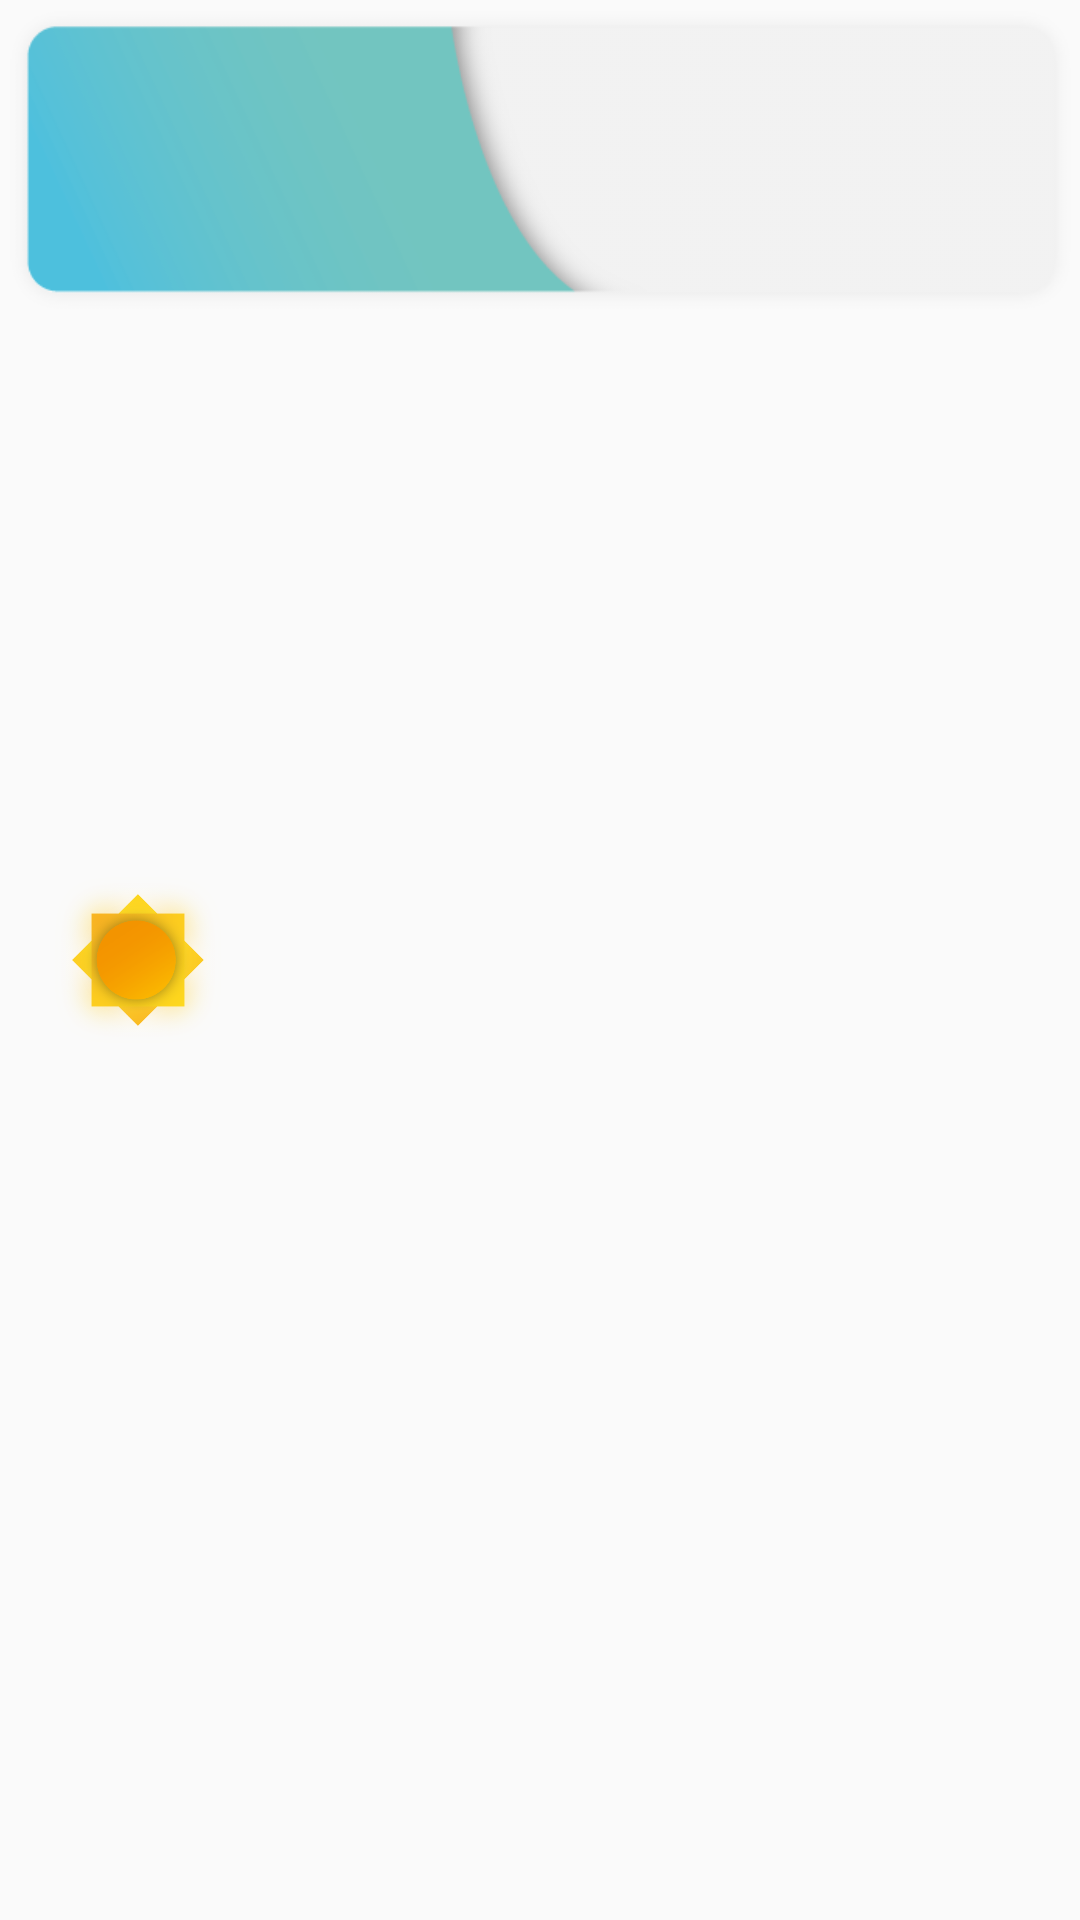

Where to tap for icons on this 1080*1920 app screen, as (x,y):
meteo: (138,960)
